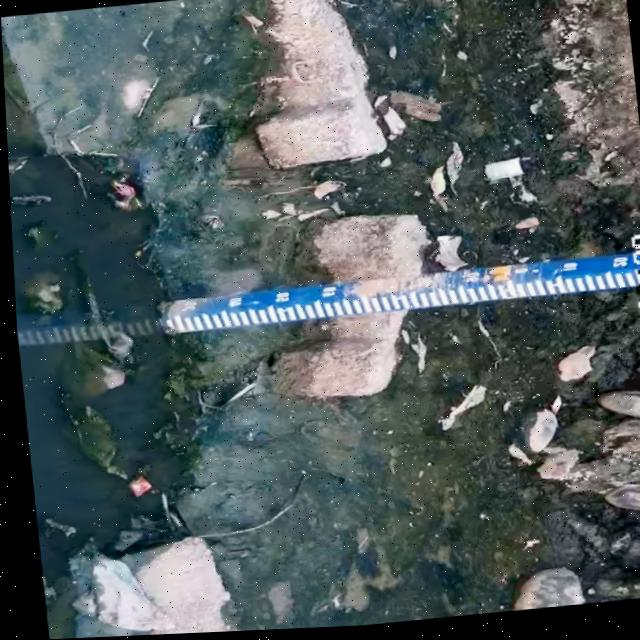water-meter: (146, 245, 640, 339)
